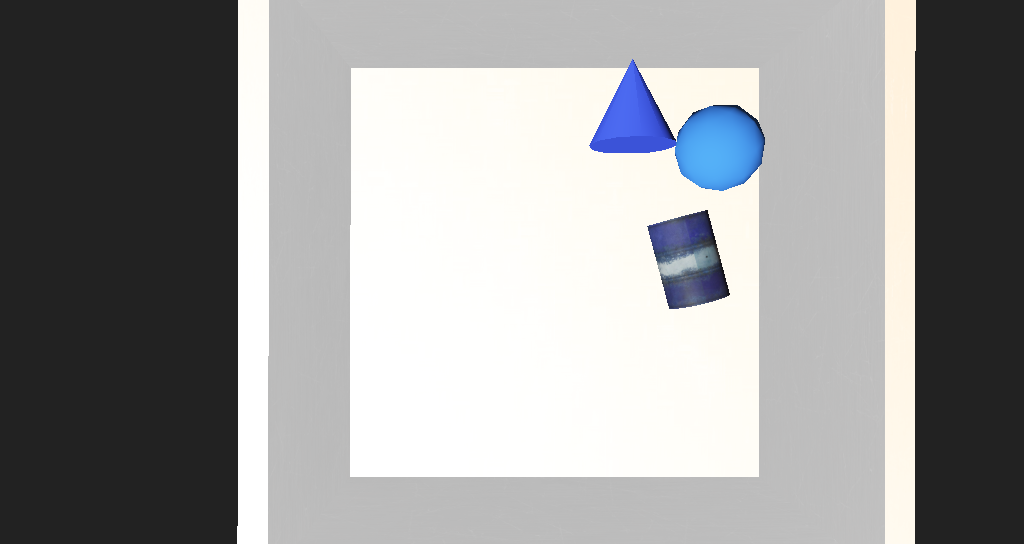cone: (576, 236, 637, 289)
cylinder: (536, 155, 596, 208)
sphere: (596, 184, 657, 227)
